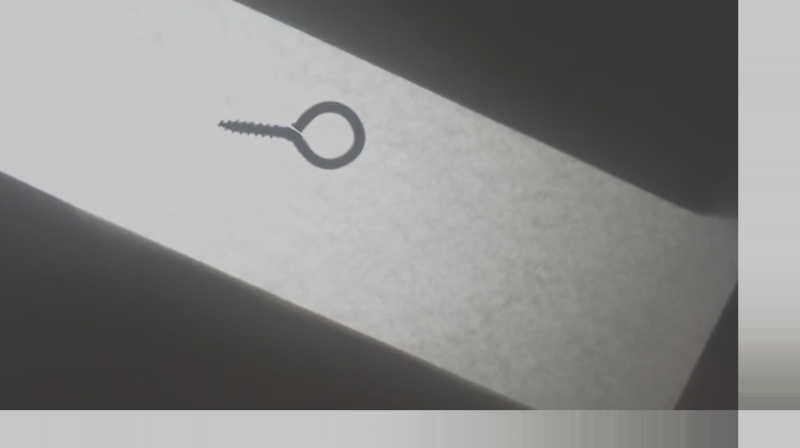O001: (211, 98, 371, 172)
